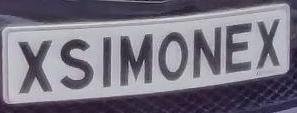0: (153, 26, 193, 86)
1: (93, 31, 122, 93)
E: (221, 19, 256, 74)
M: (116, 28, 157, 92)
N: (191, 21, 223, 80)
S: (54, 33, 97, 95)
X: (12, 35, 56, 98), (252, 12, 285, 71)
